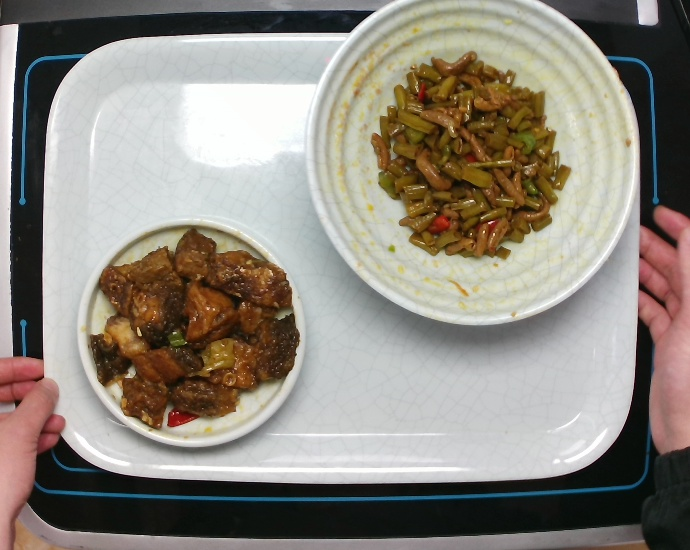JYsf-Da_Tang_Wan: (301, 1, 642, 328)
JYsf-Xiao_Yuan_Pan: (72, 213, 310, 450)
